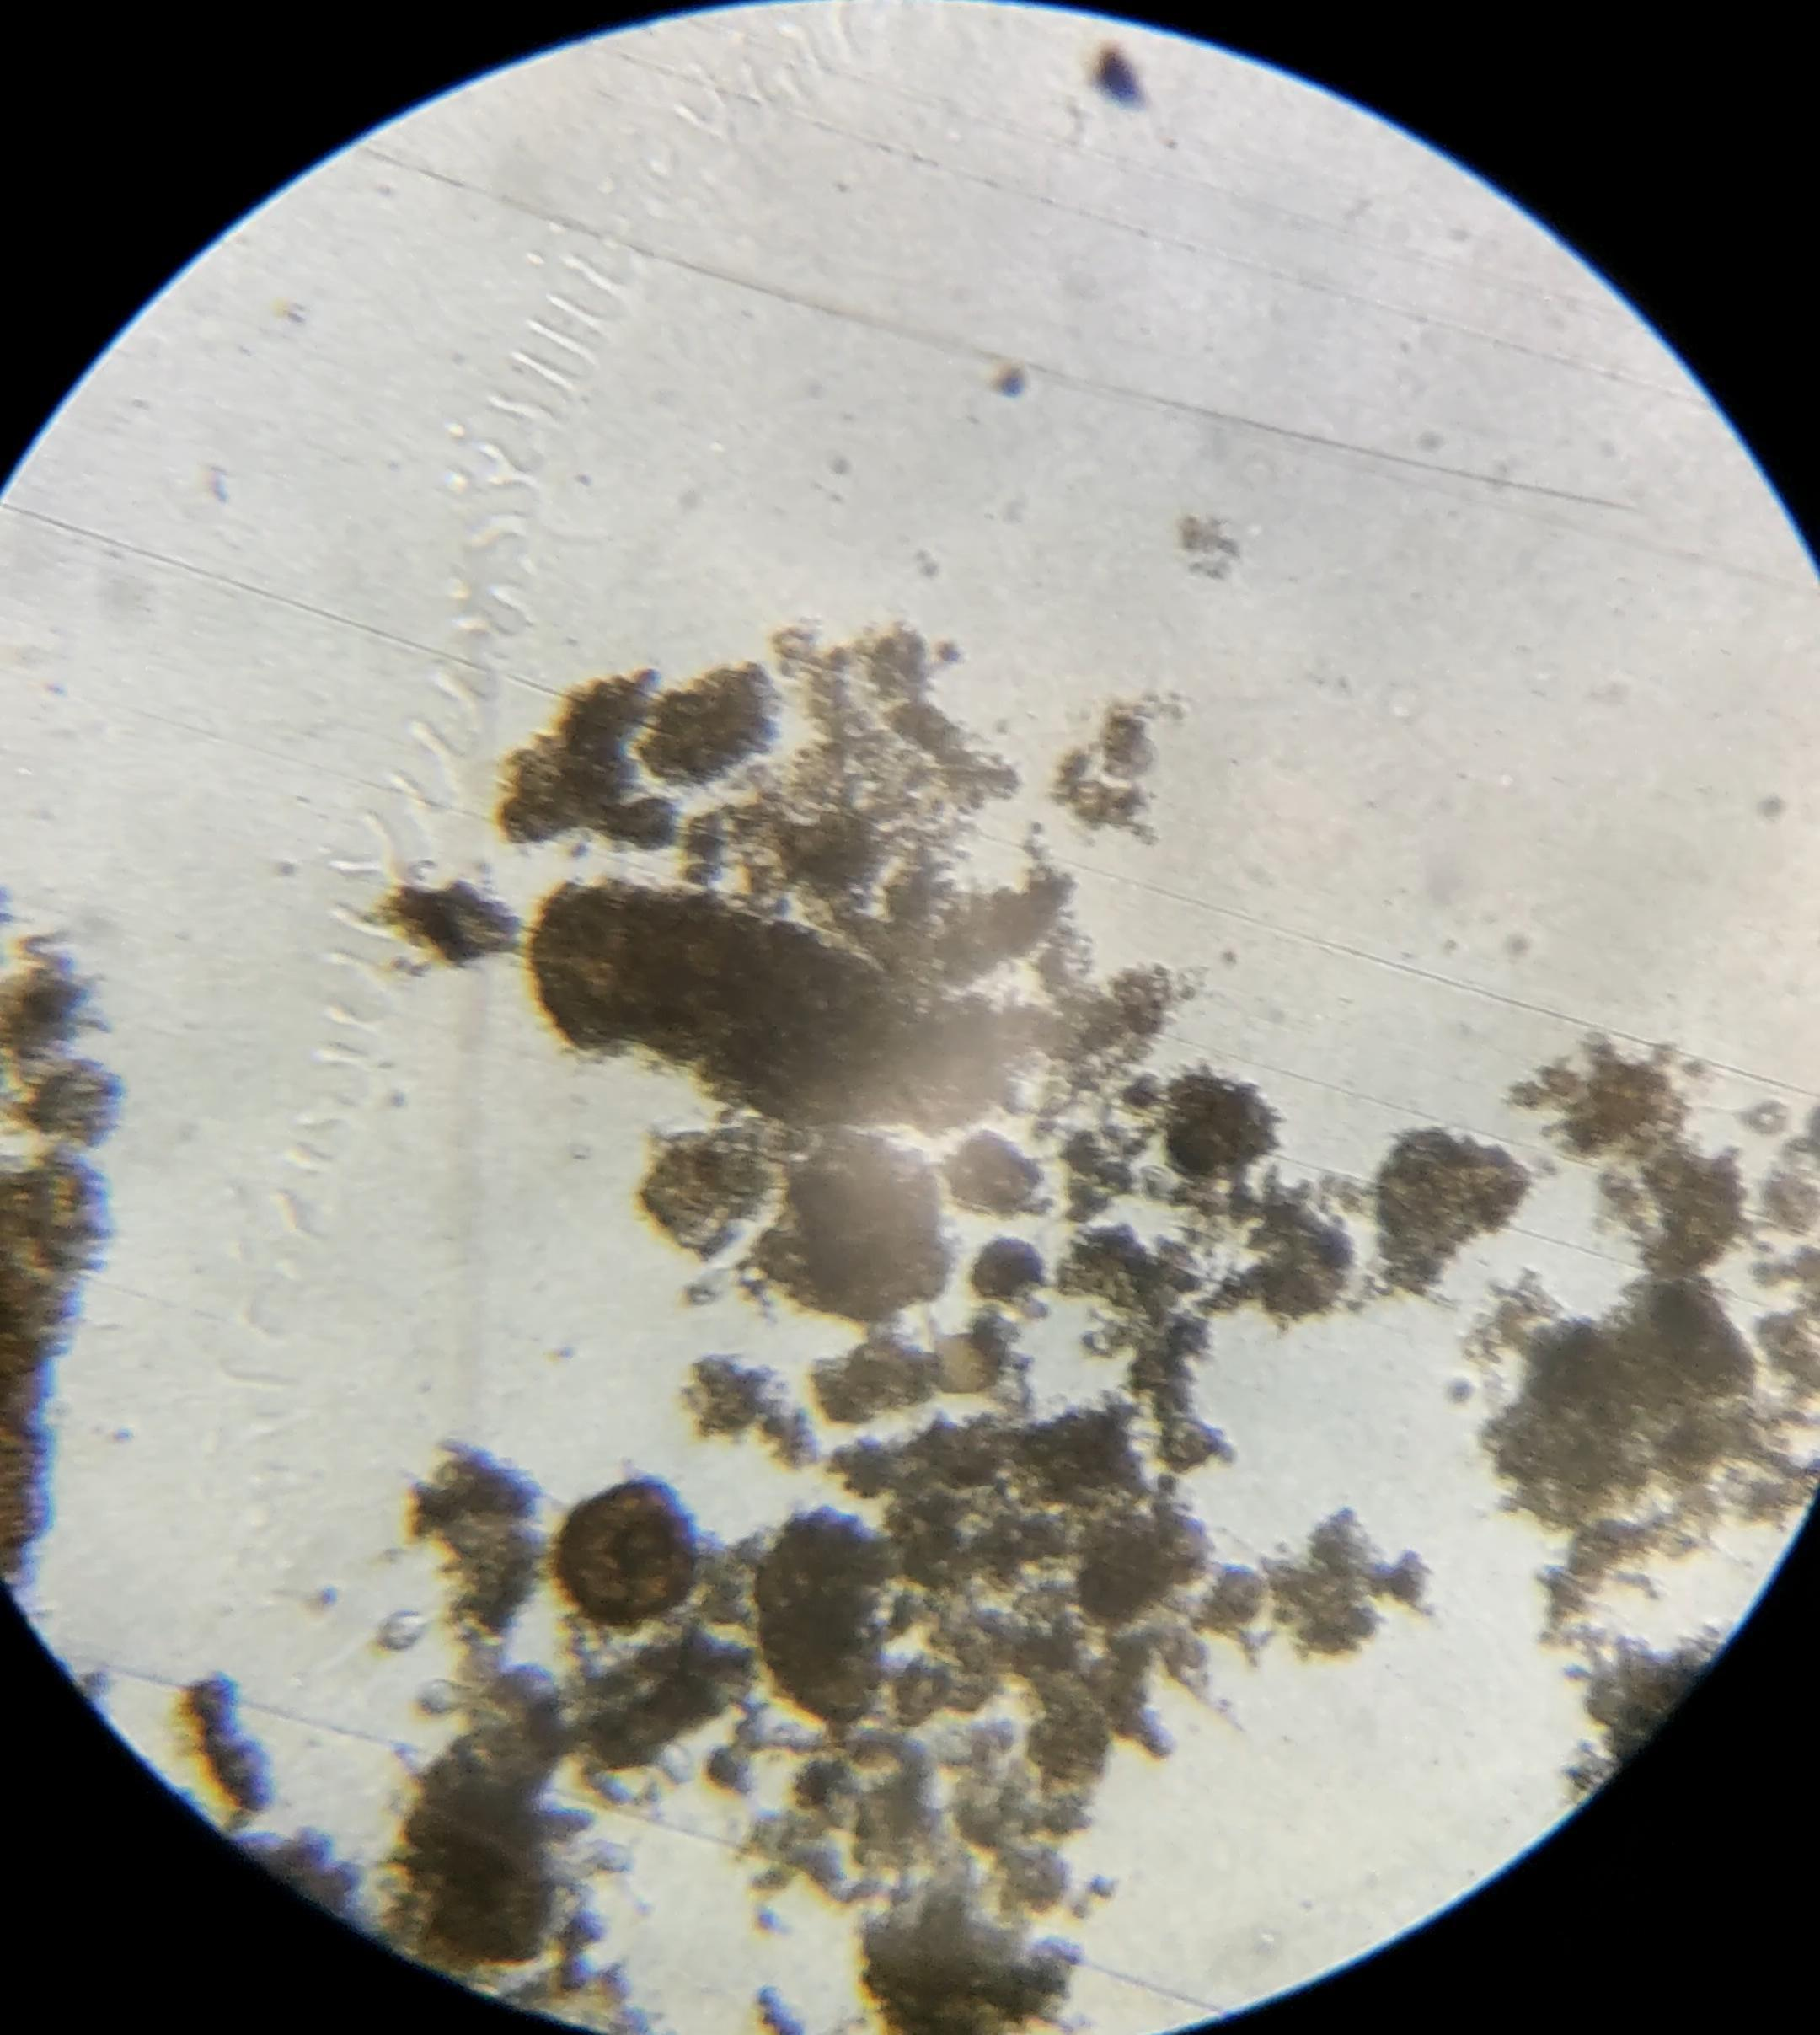Arcella: (562, 1481, 692, 1619)
